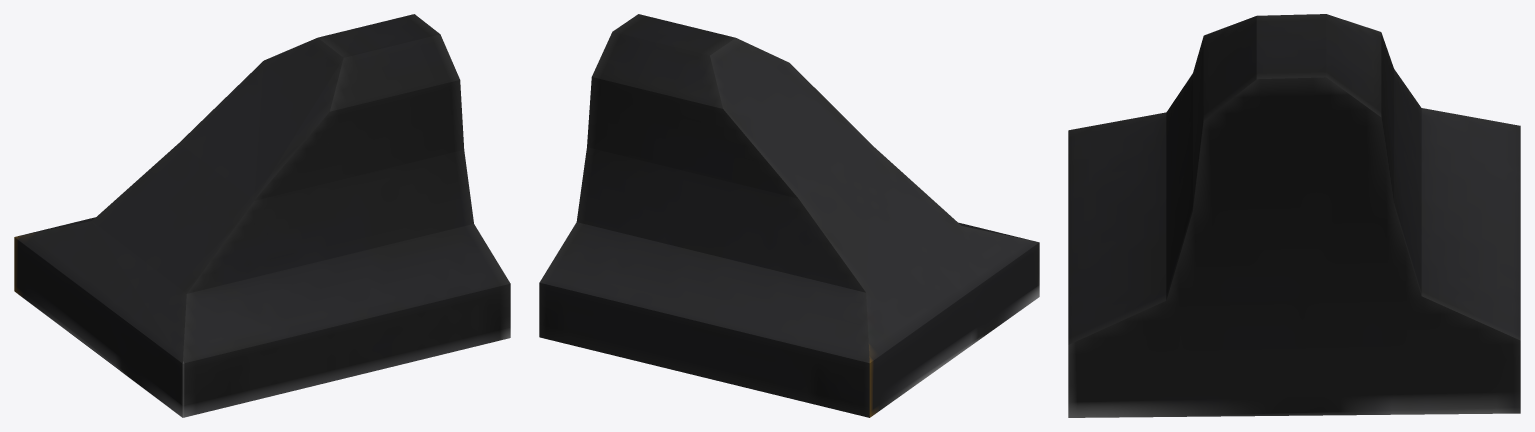
The model's file is l_talus.dae.
3 views of the same model, side by side, from view 1: azimuth 30°, elevation 25°; view 2: azimuth 150°, elevation 25°; view 3: azimuth 270°, elevation 25° (orthographic). The views are drawn at different scales.
Parts seen in each view (by area): view 1: drc_l_talus; view 2: drc_l_talus; view 3: drc_l_talus.
Boxes of the visible parts, x1=… form: drc_l_talus: x1=14, y1=14, x2=510, y2=417; drc_l_talus: x1=539, y1=14, x2=1039, y2=417; drc_l_talus: x1=1068, y1=14, x2=1520, y2=417.
Bounding box in the file's own units: 0.0524 × 0.0466 × 0.0387.
1 material, 1 textured.
